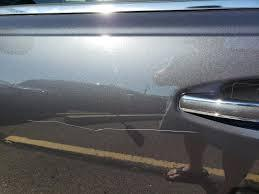scratch: (23, 115, 209, 134)
